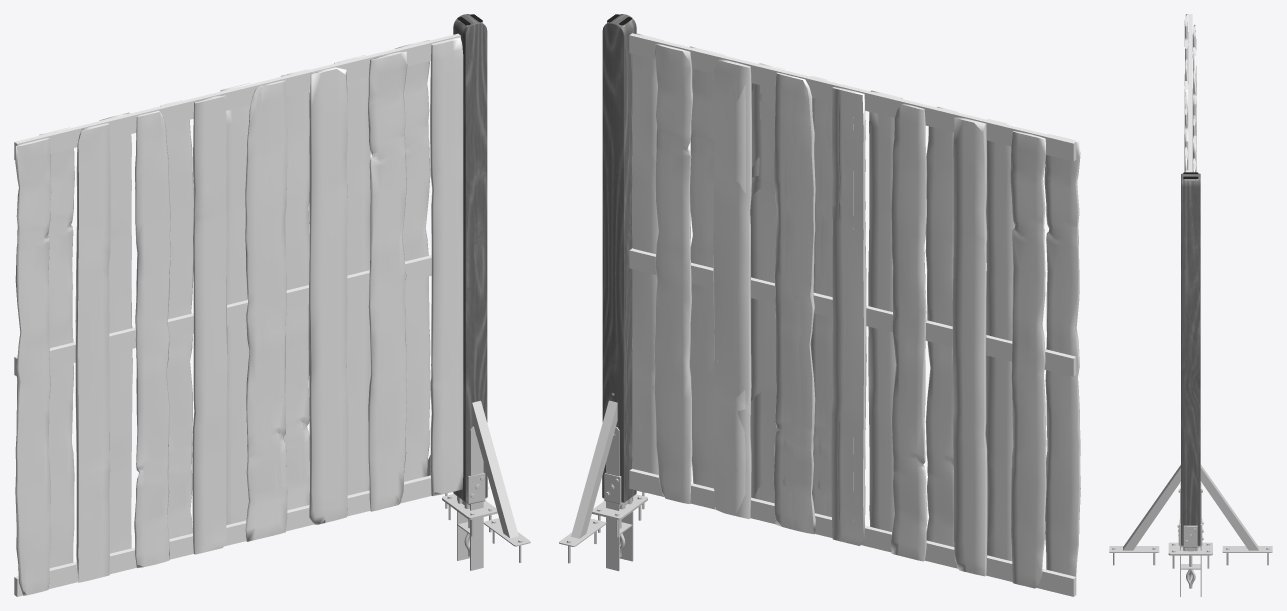
The model's file is naturaCombo15.glb.
3 views of the same model, side by side, from view 1: azimuth 30°, elevation 25°; view 2: azimuth 150°, elevation 25°; view 3: azimuth 270°, elevation 25° (orthographic). The views are drawn at different scales.
Visible parts, largest first — view 1: Nature 180, Nature 90, stubić Sina, sturmanker-right-front, Nosač Stubića Sina, post-root-right; view 2: Nature 180, Nature 90, stubić Sina, sturmanker-right-rear, Nosač Stubića Sina, post-root-right; view 3: stubić Sina, Nature 180, sturmanker-right-rear, sturmanker-right-front, post-root-right, Nosač Stubića Sina, NosacBoth.
Boxes of the visible parts, left/top/right/bottom form: Nature 180: left=14, top=33, right=463, bottom=596; Nature 90: left=233, top=36, right=460, bottom=543; stubić Sina: left=453, top=14, right=487, bottom=502; sturmanker-right-front: left=472, top=400, right=530, bottom=562; Nosač Stubića Sina: left=457, top=426, right=483, bottom=570; post-root-right: left=442, top=494, right=497, bottom=536; Nature 180: left=629, top=33, right=1080, bottom=596; Nature 90: left=629, top=36, right=853, bottom=543; stubić Sina: left=602, top=14, right=636, bottom=502; sturmanker-right-rear: left=559, top=393, right=617, bottom=563; Nosač Stubića Sina: left=606, top=427, right=633, bottom=571; post-root-right: left=592, top=494, right=647, bottom=537; stubić Sina: left=1181, top=173, right=1200, bottom=545; Nature 180: left=1184, top=14, right=1196, bottom=172; sturmanker-right-rear: left=1200, top=464, right=1272, bottom=565; sturmanker-right-front: left=1109, top=465, right=1180, bottom=565; post-root-right: left=1168, top=542, right=1212, bottom=568; Nosač Stubića Sina: left=1178, top=483, right=1202, bottom=596; NosacBoth: left=1183, top=525, right=1197, bottom=581.
Size of the model in its own units: 1.94 by 2.14 by 0.7571.
11 materials, 1 textured.
